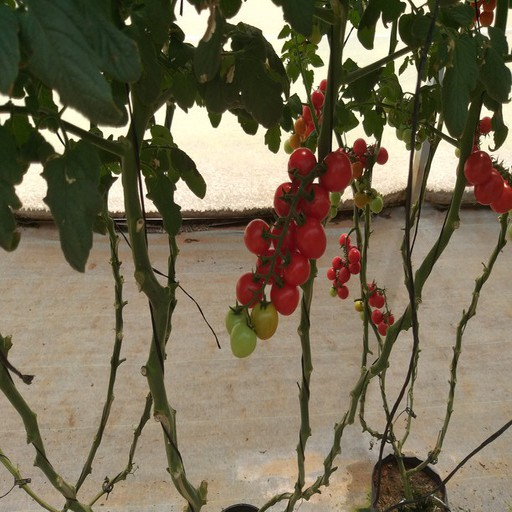mixed tomato bunch: (346, 138, 388, 213)
red tomato bunch: (236, 147, 355, 317), (458, 143, 512, 213), (288, 80, 333, 138), (328, 234, 359, 299), (360, 284, 395, 336)
